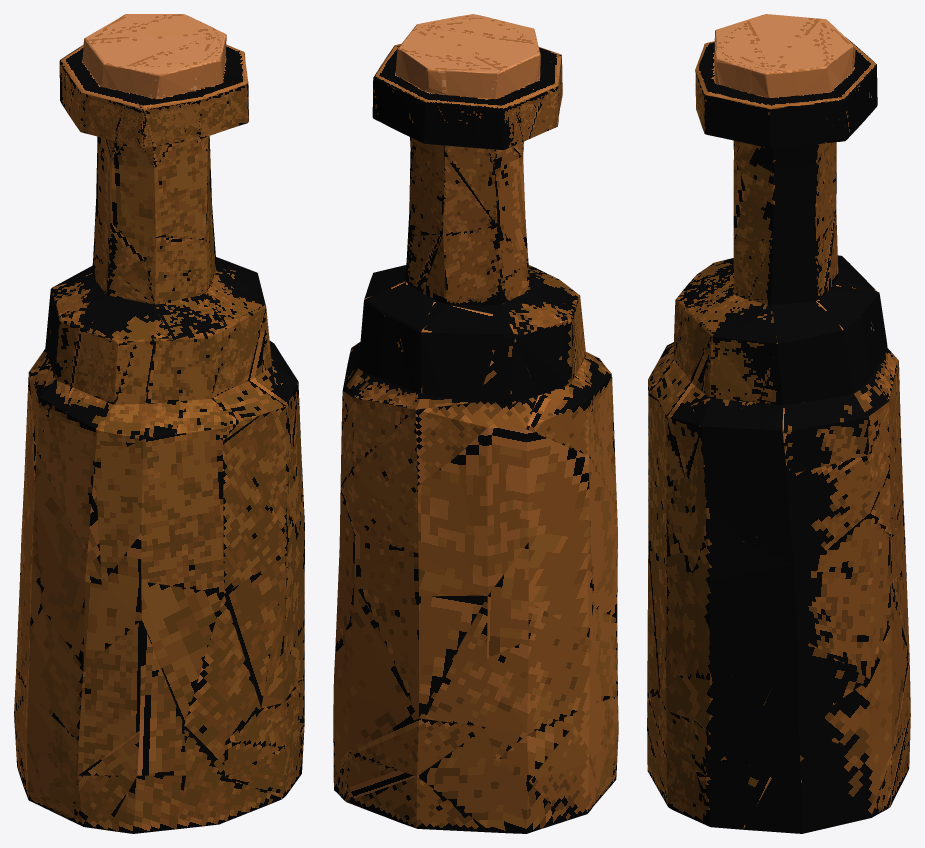
3 renders of one model, left to right at view 1: azimuth 30°, elevation 25°; view 2: azimuth 150°, elevation 25°; view 3: azimuth 270°, elevation 25°, orthographic.
Visible parts, largest first — view 1: OBJ0be; view 2: OBJ0be; view 3: OBJ0be.
Boxes of the visible parts, x1,y1,x2,y2 form: OBJ0be: [14, 14, 304, 833]; OBJ0be: [333, 14, 618, 833]; OBJ0be: [647, 14, 910, 833].
Size of the model in its own units: 0.126 by 0.3556 by 0.1161.
Materials: 1 (1 with a texture image).
